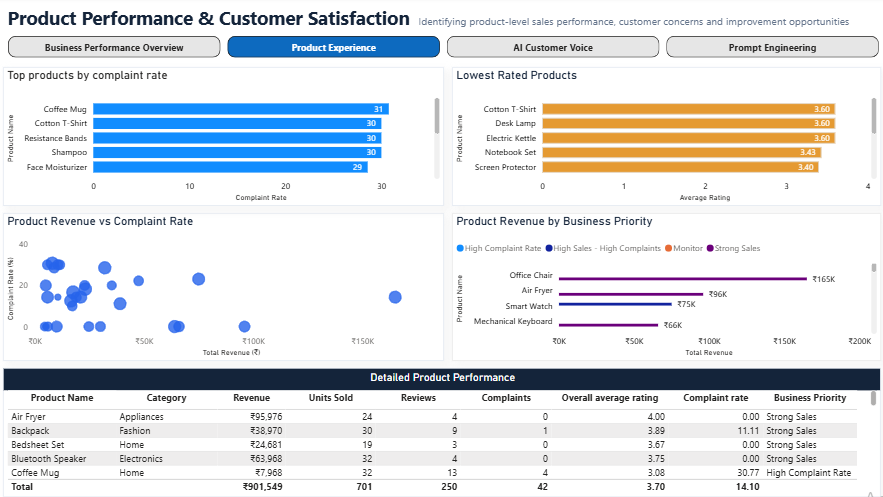

What the dashboard file says about the page in this screenshot:
{"tool":"powerbi","page":{"name":"Product Experience","canvas":[1280,720],"ordinal":1},"visuals":[{"type":"textbox","box":[0,0,1280.2,59],"z":0},{"type":"scatterChart","title":"Product Revenue vs Complaint Rate","fields":{"X":["product_summary_final.Total Revenue"],"Y":["Avg(product_summary_final.complaint_rate)"],"Size":["product_summary_final.Total Units Sold"],"Category":["products_final.product_name"]},"box":[5.8,311,635,213.1],"z":1000},{"type":"clusteredBarChart","title":"Top products by complaint rate","fields":{"Category":["products_final.product_name"],"Y":["Avg(product_summary_final.complaint_rate)"]},"box":[5.8,100.8,635,200.2],"z":2000},{"type":"clusteredBarChart","title":"Lowest Rated Products","fields":{"Category":["products_final.product_name"],"Y":["product_summary_final.Overall Average Rating"]},"box":[652.3,100.8,617.8,200.2],"z":3000},{"type":"clusteredBarChart","title":"Product Revenue by Business Priority","fields":{"Category":["products_final.product_name"],"Y":["product_summary_final.Total Revenue"],"Series":["product_summary_final.business_priority"]},"box":[652.3,311,617.8,213.1],"z":4000},{"type":"tableEx","title":"Detailed Product Performance","fields":{"Values":["products_final.product_name","products_final.category","product_summary_final.Total Revenue","product_summary_final.Total Units Sold","product_summary_final.Total Reviews","product_summary_final.Total Complaints","Avg(product_summary_final.overall_average_rating)","Avg(product_summary_final.complaint_rate)","product_summary_final.business_priority"]},"box":[5.8,534.2,1264.3,185.8],"z":5000},{"type":"pageNavigator","box":[13,56.2,1254.2,31.7],"z":6000}]}

Visuals, with their boxes in screenshot pixels (x1, y1, x2, y2), scaled from the page's 1280x720 canvas onto the 883x497 screenshot:
textbox: <region>0, 0, 882, 41</region>
"Product Revenue vs Complaint Rate" scatterChart: <region>4, 215, 442, 362</region>
"Top products by complaint rate" clusteredBarChart: <region>4, 70, 442, 208</region>
"Lowest Rated Products" clusteredBarChart: <region>450, 70, 876, 208</region>
"Product Revenue by Business Priority" clusteredBarChart: <region>450, 215, 876, 362</region>
"Detailed Product Performance" tableEx: <region>4, 369, 876, 496</region>
pageNavigator: <region>9, 39, 874, 61</region>
